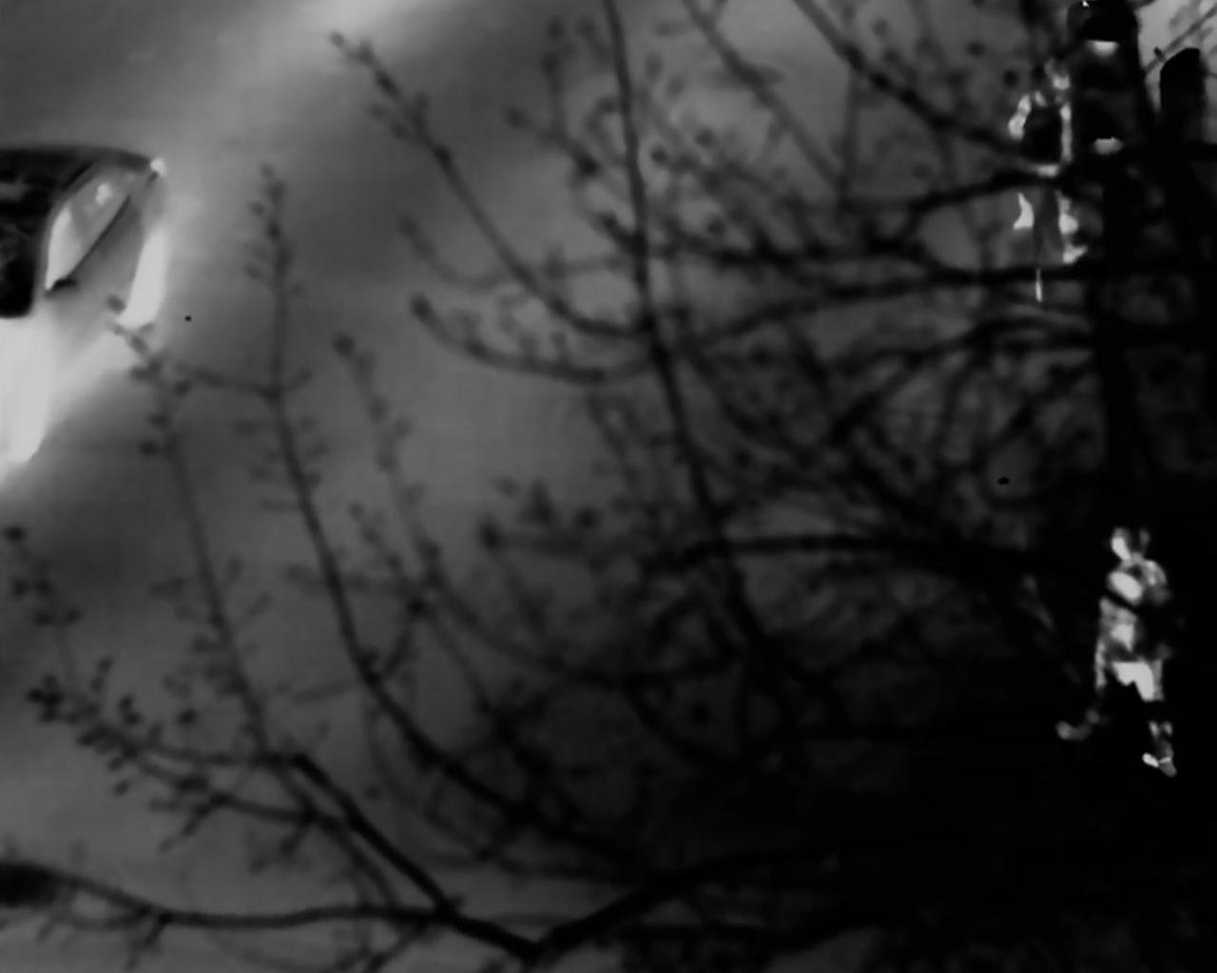person: (1084, 516, 1201, 768), (1014, 54, 1101, 274)
